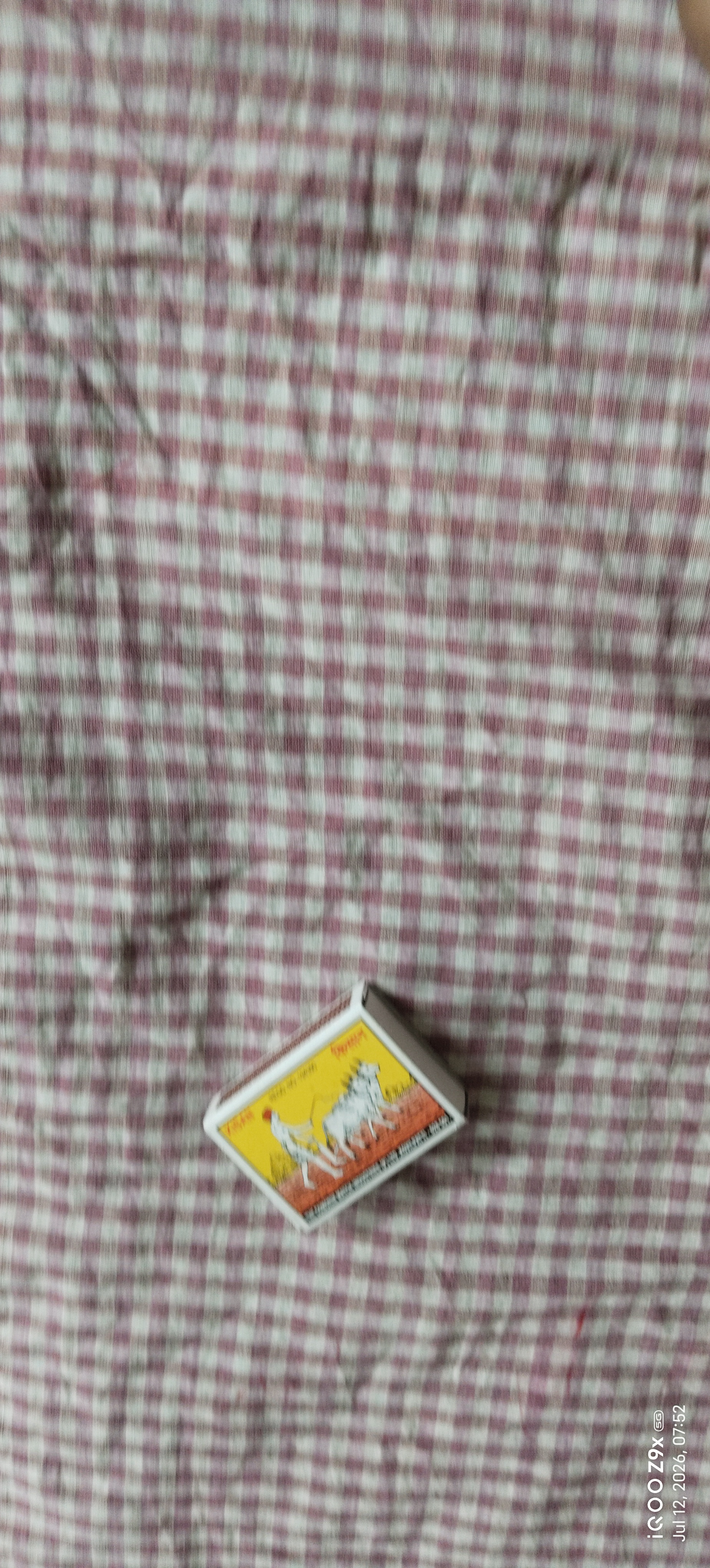matchbox: (162, 954, 501, 1249)
